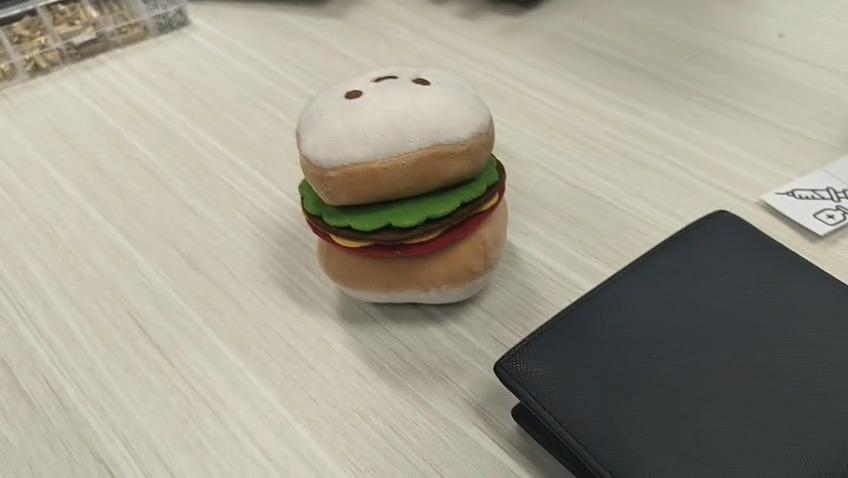objects: (296, 50, 508, 304)
